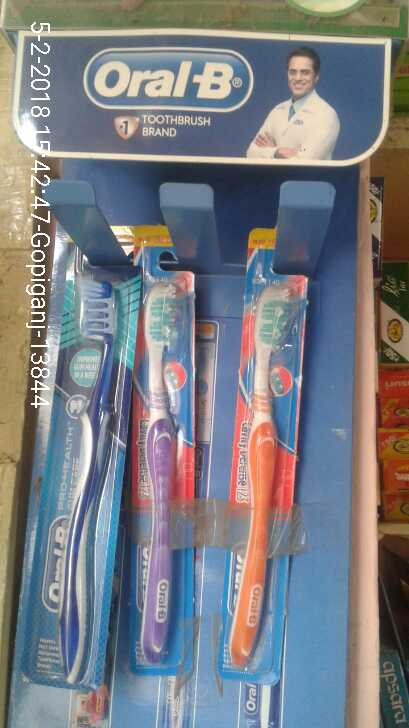oralb: (225, 216, 296, 684), (56, 252, 124, 697), (135, 242, 199, 674)
